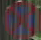No Stopping: (3, 0, 40, 38)
